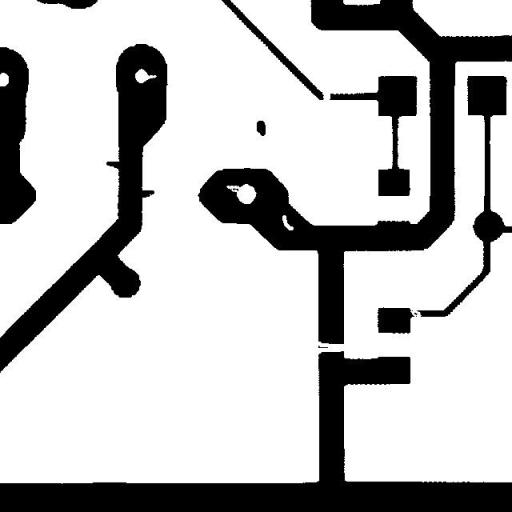copper: (249, 113, 273, 143)
mousebite: (218, 178, 248, 202), (135, 67, 164, 87)
open: (306, 334, 358, 360), (402, 299, 429, 324), (314, 82, 338, 110)
pin-hole: (274, 207, 301, 238)
spur: (98, 154, 130, 178), (131, 182, 162, 205)
